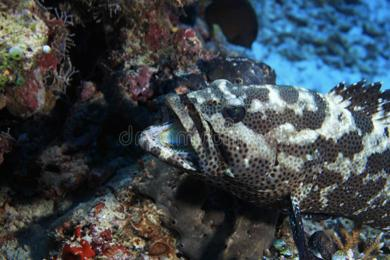Serranidae -Groupers-: (135, 75, 390, 260)
